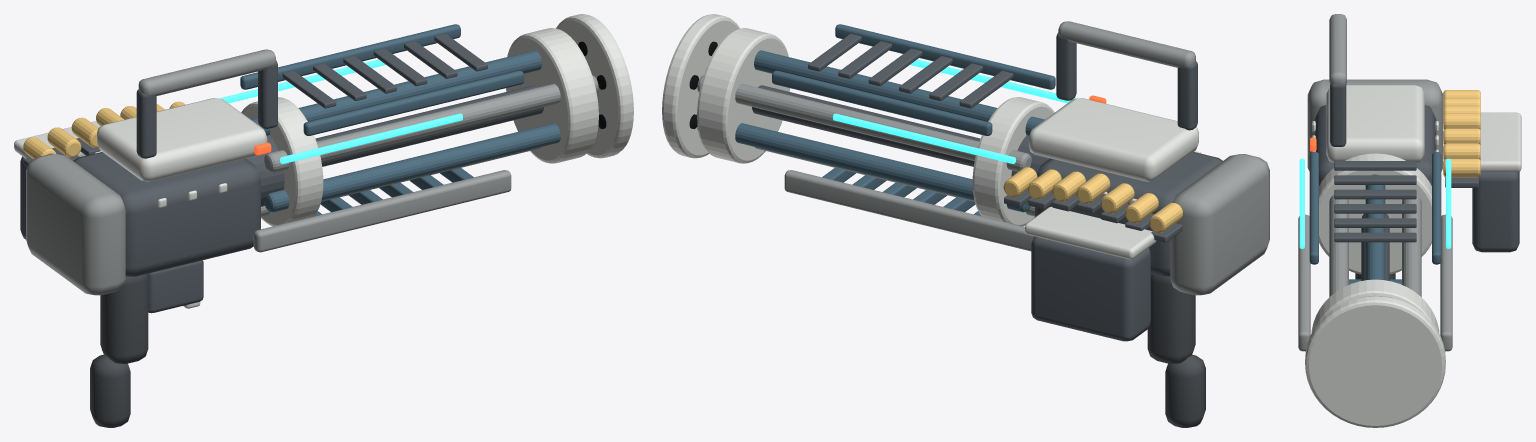
Rendered from lg_duel_machine_gun_minigun_steel.fbx.
3 renders of one model, left to right at view 1: azimuth 30°, elevation 25°; view 2: azimuth 150°, elevation 25°; view 3: azimuth 270°, elevation 25°, orthographic. The views are drawn at different scales.
Visible parts, largest first — view 1: rear_steel_receiver_block, rear_motor_cap_round_proxy, upper_feed_cover_bright_steel, front_barrel_cluster_collar, left_side_steel_frame_rail, rotating_barrel_04_steel_tube, front_polished_muzzle_ring, rotating_barrel_03_steel_tube, rear_barrel_cluster_collar, rear_black_vertical_grip, rotating_barrel_02_steel_tube, left_upper_heatshield_rail (+17 smaller); view 2: rear_motor_cap_round_proxy, left_feed_box_dark_steel, upper_feed_cover_bright_steel, front_barrel_cluster_collar, right_side_steel_frame_rail, rotating_barrel_06_steel_tube, front_polished_muzzle_ring, rear_barrel_cluster_collar, rotating_barrel_01_steel_tube, rear_steel_receiver_block, left_feed_box_bright_lid, rotating_barrel_02_steel_tube (+23 smaller); view 3: front_polished_muzzle_ring, upper_feed_cover_bright_steel, rear_barrel_cluster_collar, left_feed_box_dark_steel, left_feed_box_bright_lid, rear_motor_cap_round_proxy, front_barrel_cluster_collar, rear_steel_receiver_block, left_side_steel_frame_rail, right_side_steel_frame_rail, rotating_barrel_03_steel_tube, rotating_barrel_01_steel_tube (+22 smaller).
Boxes of the visible parts, x1=… form: rear_steel_receiver_block: x1=73, y1=152, x2=260, y2=276; rear_motor_cap_round_proxy: x1=26, y1=154, x2=125, y2=295; upper_feed_cover_bright_steel: x1=97, y1=98, x2=267, y2=181; front_barrel_cluster_collar: x1=506, y1=28, x2=598, y2=163; left_side_steel_frame_rail: x1=253, y1=170, x2=511, y2=252; rotating_barrel_04_steel_tube: x1=264, y1=123, x2=598, y2=212; front_polished_muzzle_ring: x1=556, y1=14, x2=633, y2=158; rotating_barrel_03_steel_tube: x1=264, y1=75, x2=598, y2=172; rear_barrel_cluster_collar: x1=241, y1=97, x2=323, y2=226; rear_black_vertical_grip: x1=100, y1=274, x2=148, y2=363; rotating_barrel_02_steel_tube: x1=251, y1=50, x2=541, y2=135; left_upper_heatshield_rail: x1=303, y1=70, x2=523, y2=135; rear_motor_cap_round_proxy: x1=1170, y1=154, x2=1269, y2=295; left_feed_box_dark_steel: x1=1031, y1=236, x2=1150, y2=341; upper_feed_cover_bright_steel: x1=1028, y1=98, x2=1198, y2=181; front_barrel_cluster_collar: x1=697, y1=28, x2=789, y2=163; right_side_steel_frame_rail: x1=784, y1=170, x2=1033, y2=251; rotating_barrel_06_steel_tube: x1=697, y1=123, x2=1030, y2=212; front_polished_muzzle_ring: x1=662, y1=14, x2=739, y2=158; rear_barrel_cluster_collar: x1=972, y1=97, x2=1054, y2=226; rotating_barrel_01_steel_tube: x1=697, y1=75, x2=1031, y2=171; rear_steel_receiver_block: x1=1035, y1=152, x2=1222, y2=276; left_feed_box_bright_lid: x1=1025, y1=206, x2=1156, y2=259; rotating_barrel_02_steel_tube: x1=754, y1=50, x2=1044, y2=135; front_polished_muzzle_ring: x1=1305, y1=296, x2=1445, y2=427; upper_feed_cover_bright_steel: x1=1326, y1=85, x2=1424, y2=162; rear_barrel_cluster_collar: x1=1319, y1=153, x2=1431, y2=274; left_feed_box_dark_steel: x1=1472, y1=171, x2=1519, y2=252; left_feed_box_bright_lid: x1=1480, y1=112, x2=1521, y2=171; rear_motor_cap_round_proxy: x1=1307, y1=79, x2=1442, y2=171; front_barrel_cluster_collar: x1=1311, y1=279, x2=1439, y2=332; rear_steel_receiver_block: x1=1314, y1=105, x2=1436, y2=185; left_side_steel_frame_rail: x1=1298, y1=214, x2=1310, y2=351; right_side_steel_frame_rail: x1=1440, y1=214, x2=1452, y2=351; rotating_barrel_03_steel_tube: x1=1329, y1=195, x2=1348, y2=296; rotating_barrel_01_steel_tube: x1=1402, y1=195, x2=1421, y2=296.
Bounding box in the file's own units: 33 × 89.75 × 56.
